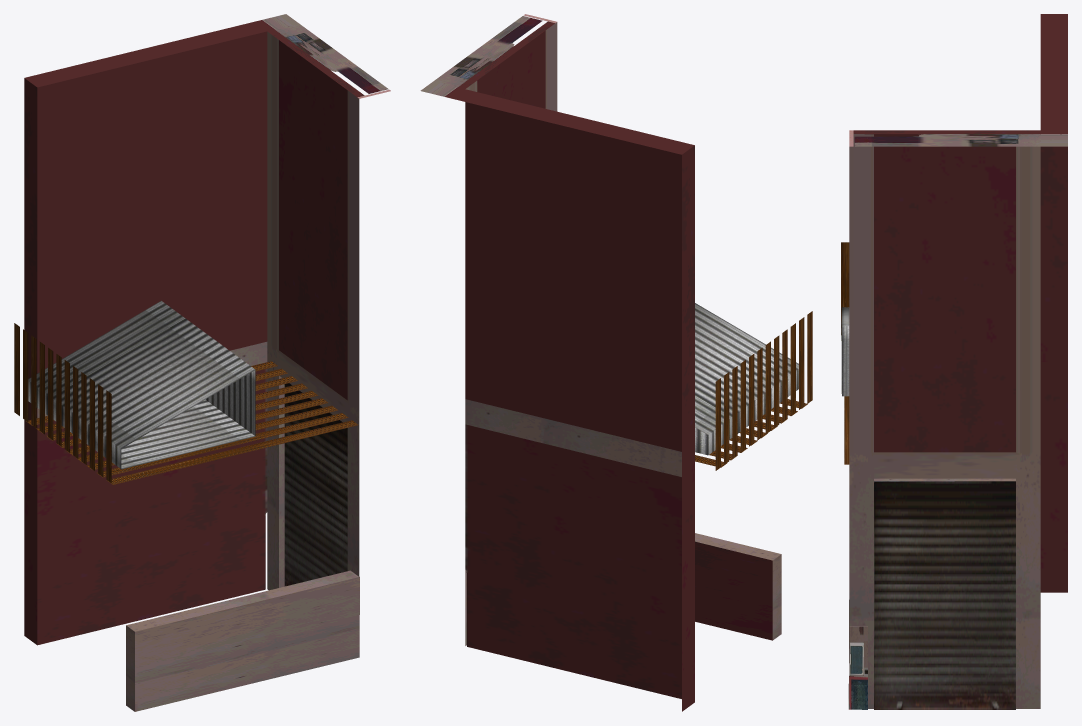
File: PjsRevol_CasaEsquina_Pedaso.fbx
The picture shows the model from 3 angles, left to right: view 1: azimuth 30°, elevation 25°; view 2: azimuth 150°, elevation 25°; view 3: azimuth 270°, elevation 25°; orthographic projection. The views are drawn at different scales.
Visible parts, largest first — view 1: Cube.005, CasaEsquina.003, Plane.002, Plane.004; view 2: Cube.005, CasaEsquina.003, Plane.002, Plane.004; view 3: Cube.005, CasaEsquina.003, Plane.002, Plane.004.
Part boxes in pixels (box(x1,y1,x2,y2)): Cube.005: box(24, 14, 390, 711); CasaEsquina.003: box(28, 300, 255, 469); Plane.002: box(14, 323, 111, 482); Plane.004: box(26, 361, 358, 484); Cube.005: box(420, 14, 781, 711); CasaEsquina.003: box(695, 303, 798, 455); Plane.002: box(715, 311, 812, 470); Plane.004: box(695, 399, 807, 467); Cube.005: box(848, 14, 1067, 709); CasaEsquina.003: box(841, 307, 849, 396); Plane.002: box(841, 242, 849, 334); Plane.004: box(844, 396, 849, 464).
Bounding box in the file's own units: 9.25 × 17.4 × 6.18.
